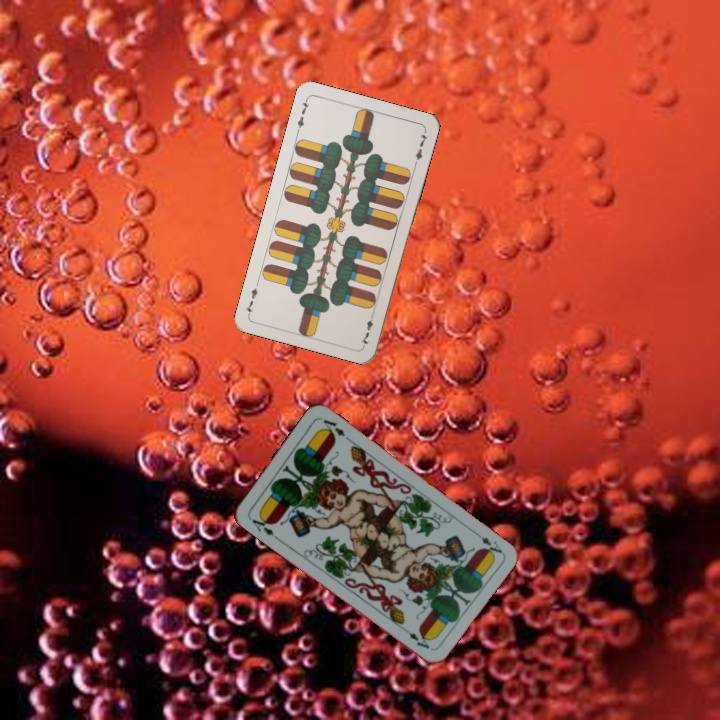E7: (357, 308, 377, 348), (293, 95, 312, 135)
EA: (244, 510, 280, 541), (470, 527, 504, 559)
